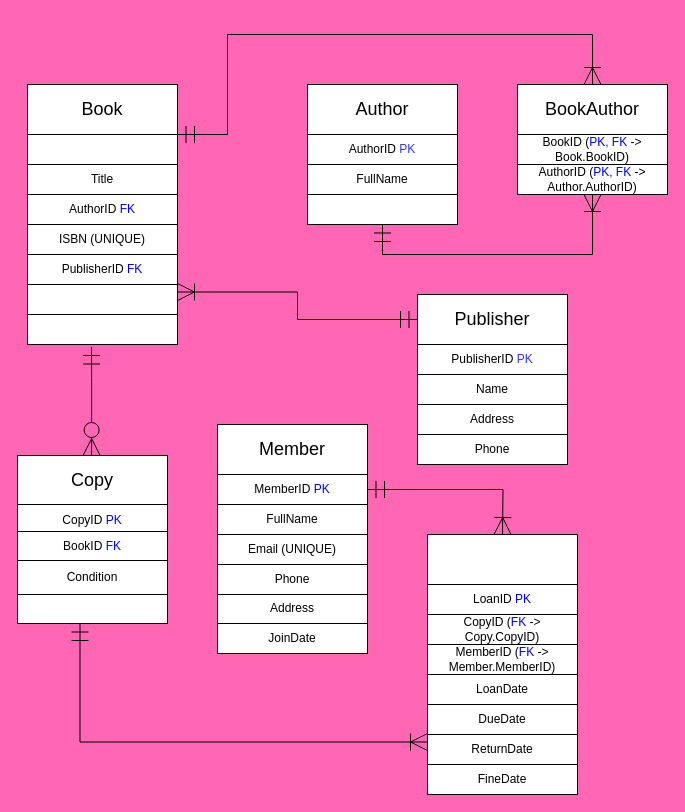
Some shapes in this 685 by 812 pixel diagram are drawn without their labels. Each missing label, with the centre of its shape:
"BookID PK" goes at point 102,149.
"DirthDate" goes at point 382,209.
"Genre" goes at point 102,299.
"IsAvalible" goes at point 92,609.
"Loan" goes at point 502,559.
"YearPublished" goes at point 102,329.
